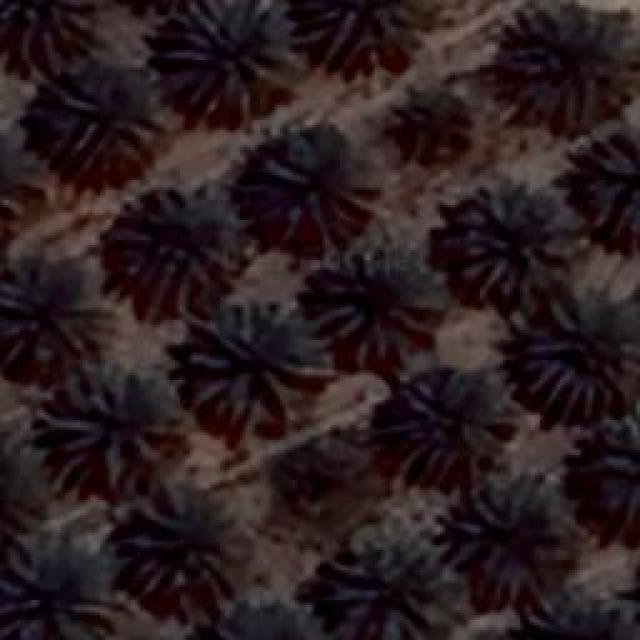PalmTree: (90, 48, 578, 616), (22, 155, 90, 484), (180, 300, 330, 425), (38, 364, 178, 488), (448, 180, 582, 300), (504, 0, 628, 128), (160, 2, 292, 116), (520, 284, 630, 418), (242, 130, 358, 255), (312, 251, 446, 359), (0, 248, 108, 382), (390, 367, 512, 485), (324, 528, 448, 638), (468, 478, 588, 590), (132, 175, 250, 288), (32, 82, 166, 168), (122, 488, 228, 590), (0, 555, 110, 640), (0, 0, 105, 68), (295, 0, 423, 55), (392, 86, 472, 164), (584, 127, 638, 240), (197, 602, 330, 640), (598, 410, 638, 525), (0, 122, 32, 246)
